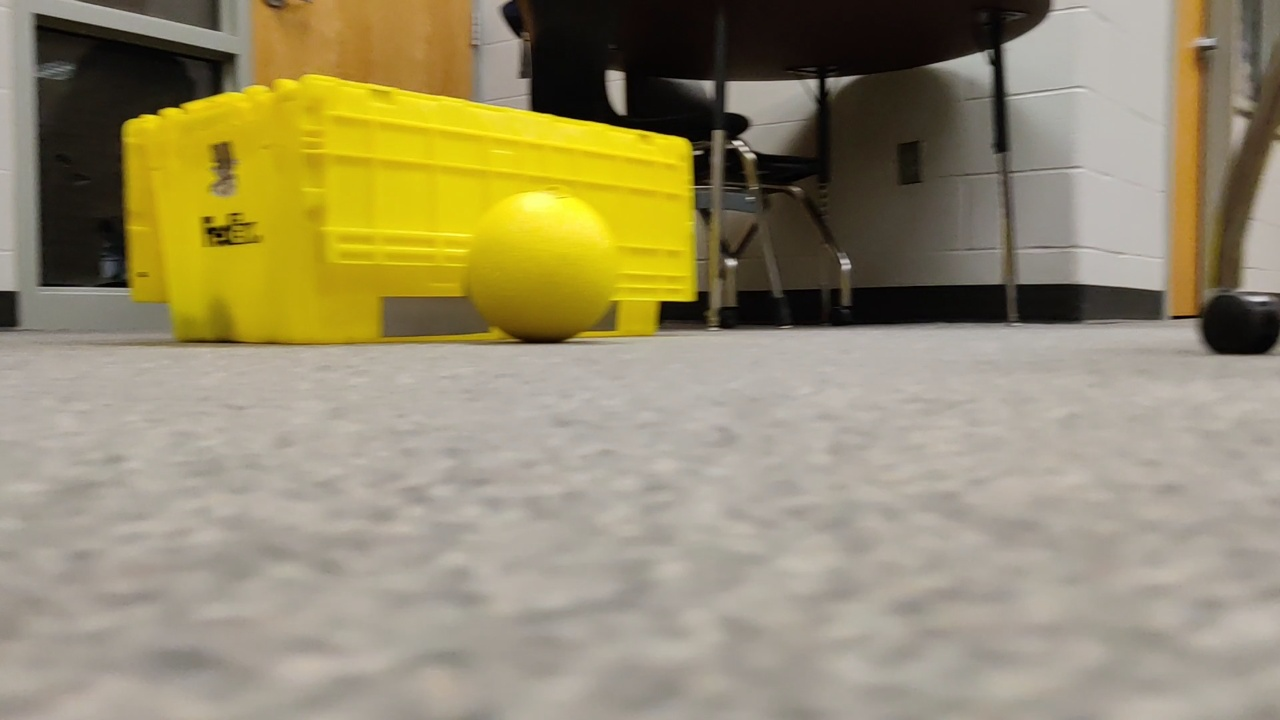Ball: (463, 191, 625, 344)
